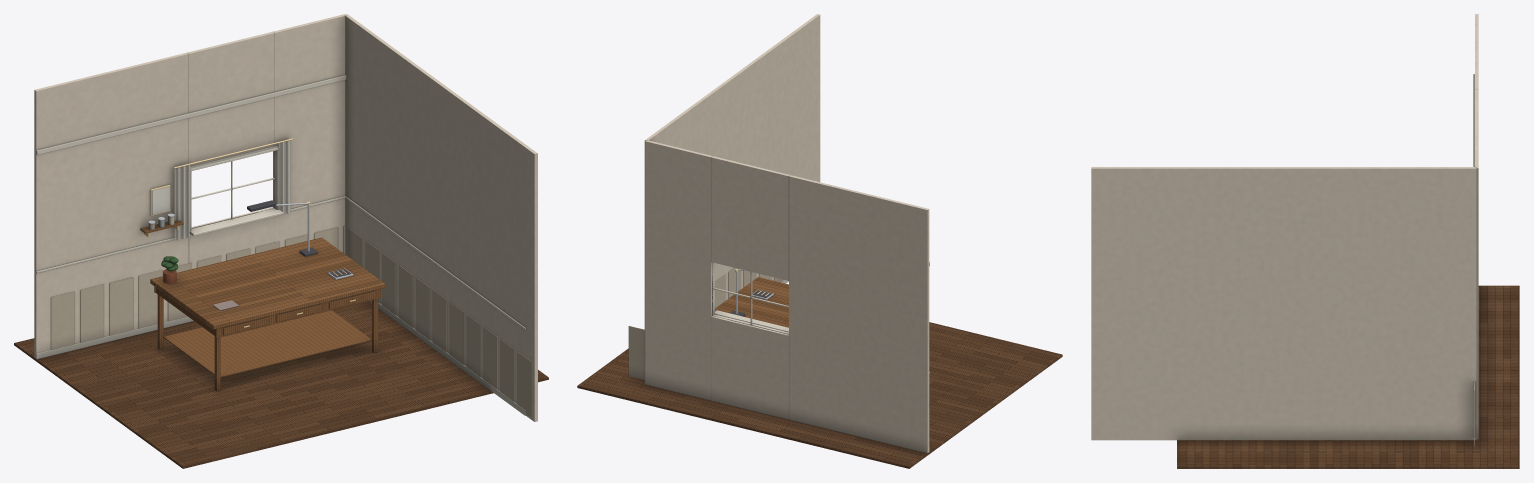
Rendered from workshop.glb.
3 renders of one model, left to right at view 1: azimuth 30°, elevation 25°; view 2: azimuth 150°, elevation 25°; view 3: azimuth 270°, elevation 25°, orthographic. The views are drawn at different scales.
Visible parts, largest first — view 1: workshop-room, workshop-bench, workshop-metal; view 2: workshop-room, workshop-bench; view 3: workshop-room.
Boxes of the visible parts, x1,y1,x2,y2 form: workshop-room: [14, 14, 548, 468]; workshop-bench: [150, 237, 384, 391]; workshop-metal: [144, 138, 355, 327]; workshop-room: [577, 14, 1062, 468]; workshop-bench: [715, 277, 788, 327]; workshop-room: [1091, 14, 1519, 468].
Size of the model in its own units: 20 by 14.12 by 20.
5 materials, 2 textured.
